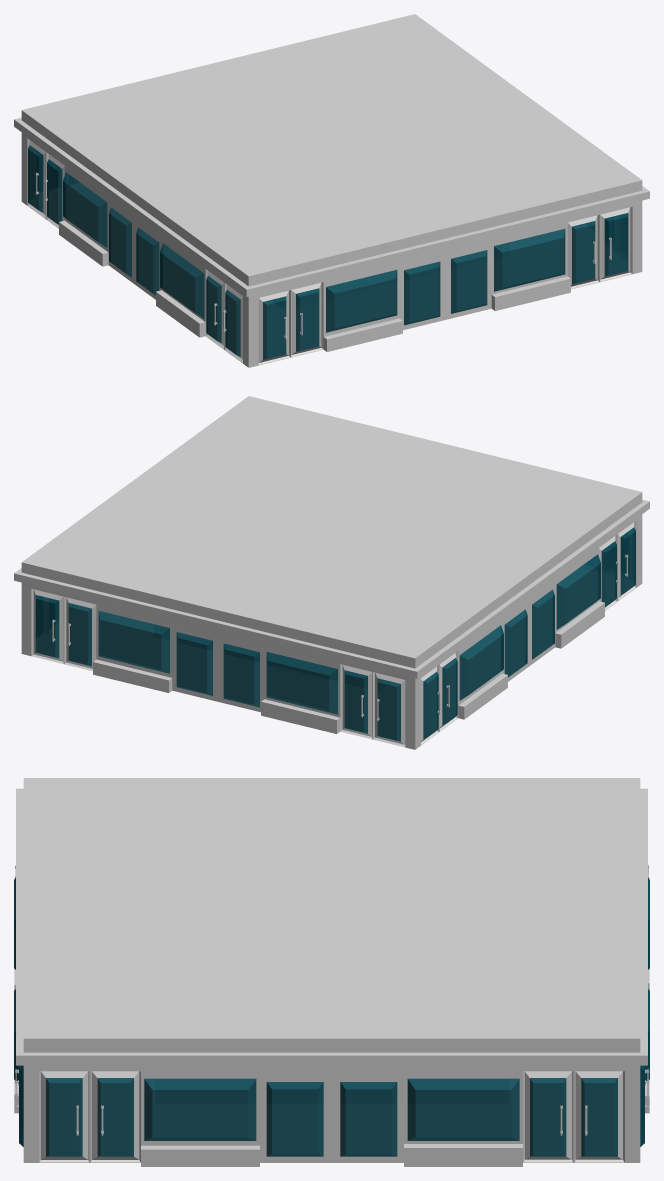
File: building_office_four_sided_02_base.fbx
The picture shows the model from 3 angles, top to bottom: view 1: azimuth 30°, elevation 25°; view 2: azimuth 150°, elevation 25°; view 3: azimuth 270°, elevation 25°; orthographic projection. The views are drawn at different scales.
Parts seen in each view (by area): view 1: building_office_four_sided_02_base, building_office_four_sided_02_base_glass; view 2: building_office_four_sided_02_base, building_office_four_sided_02_base_glass; view 3: building_office_four_sided_02_base, building_office_four_sided_02_base_glass.
Part boxes in pixels (x1,y1,x2,y2): building_office_four_sided_02_base: [14, 14, 649, 367]; building_office_four_sided_02_base_glass: [28, 145, 628, 359]; building_office_four_sided_02_base: [14, 396, 649, 749]; building_office_four_sided_02_base_glass: [35, 527, 635, 741]; building_office_four_sided_02_base: [14, 778, 649, 1166]; building_office_four_sided_02_base_glass: [14, 878, 649, 1156].
Size of the model in its own units: 1856 by 400 by 1856.
